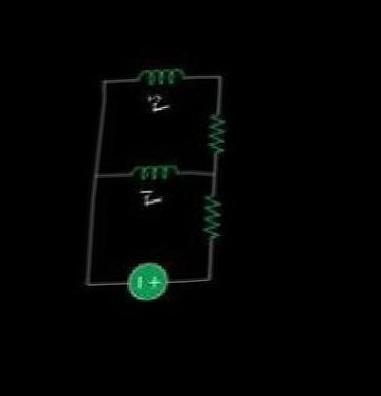Battery: (117, 254, 177, 314)
